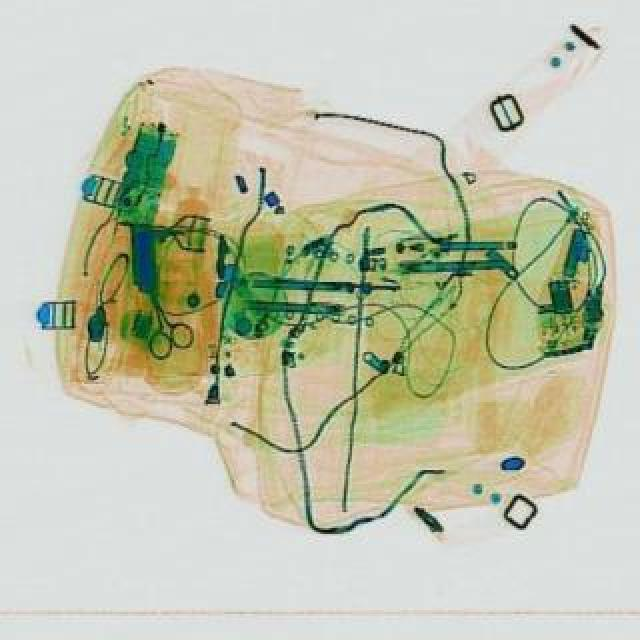pliers: (132, 284, 200, 364)
